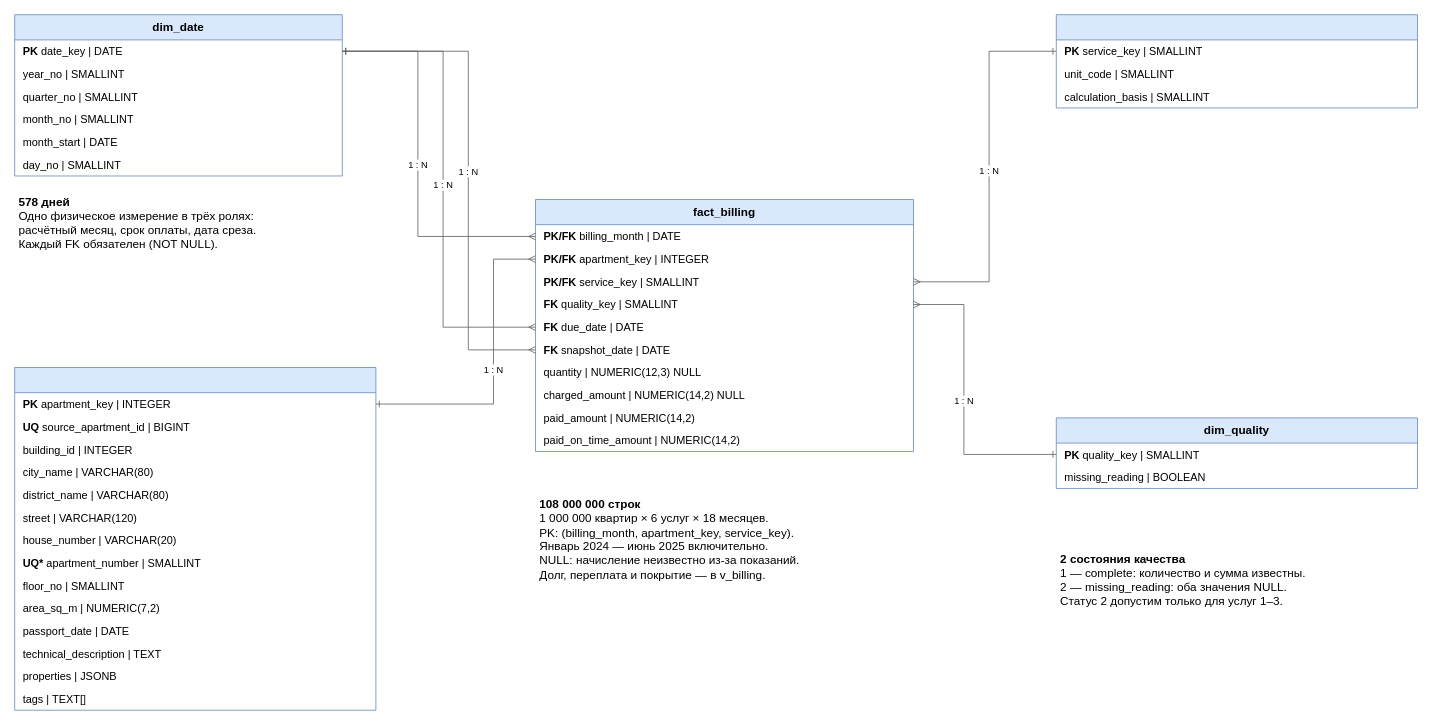
This 1432x725 diagram has some shape labels left out. The box of each missing label's shape, as (x1, y1, x2, y2) in pixels:
dim_apartment: (14, 367, 376, 710)
dim_service: (1055, 14, 1418, 108)
